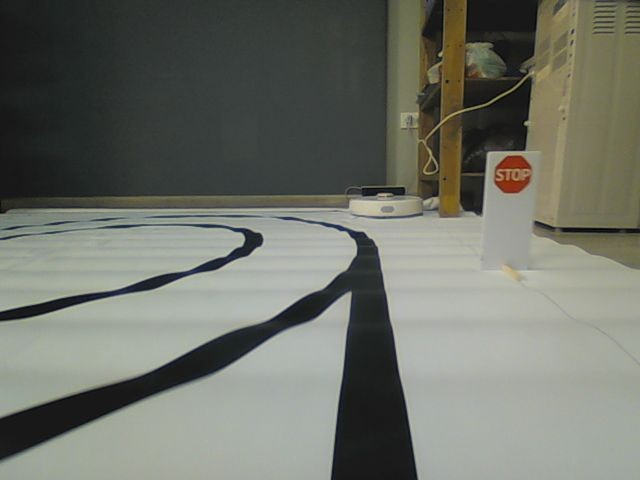Stop: (493, 155, 533, 195)
